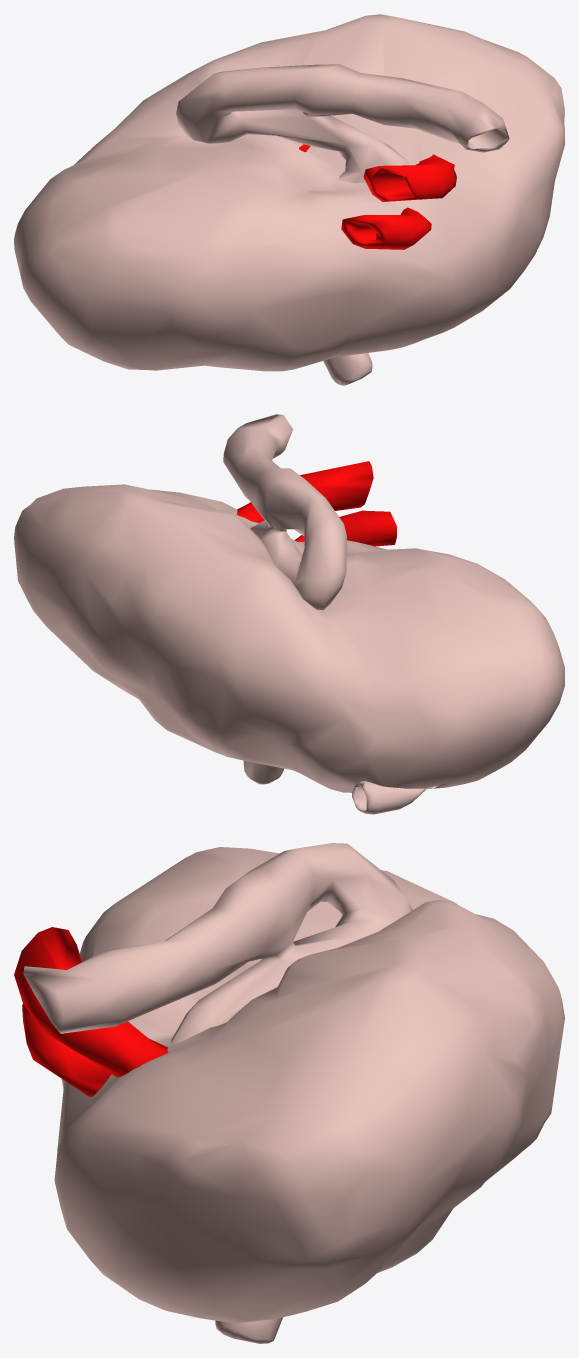
Rendered from lymph_node.glb.
3 renders of one model, top to bottom at view 1: azimuth 30°, elevation 25°; view 2: azimuth 150°, elevation 25°; view 3: azimuth 270°, elevation 25°, orthographic. The views are drawn at different scales.
Visible parts, largest first — view 1: Yao_capsule_of_lymph_node, Yao_efferent_lymph_node, Yao_blood_vasculature, Yao_afferent_lymphatic_vessel; view 2: Yao_capsule_of_lymph_node, Yao_efferent_lymph_node, Yao_blood_vasculature, Yao_afferent_lymphatic_vessel; view 3: Yao_capsule_of_lymph_node, Yao_efferent_lymph_node, Yao_blood_vasculature, Yao_afferent_lymphatic_vessel.
Part boxes in pixels (x1,y1,x2,y2): Yao_capsule_of_lymph_node: [14, 14, 564, 371]; Yao_efferent_lymph_node: [176, 64, 509, 183]; Yao_blood_vasculature: [299, 144, 456, 249]; Yao_afferent_lymphatic_vessel: [323, 353, 372, 385]; Yao_capsule_of_lymph_node: [14, 484, 564, 792]; Yao_efferent_lymph_node: [223, 414, 346, 610]; Yao_blood_vasculature: [237, 461, 396, 546]; Yao_afferent_lymphatic_vessel: [243, 760, 425, 814]; Yao_capsule_of_lymph_node: [54, 847, 564, 1323]; Yao_efferent_lymph_node: [23, 843, 412, 1043]; Yao_blood_vasculature: [14, 927, 168, 1096]; Yao_afferent_lymphatic_vessel: [215, 1317, 282, 1343].
Size of the model in its own units: 0.0196 by 0.0113 by 0.0125.
